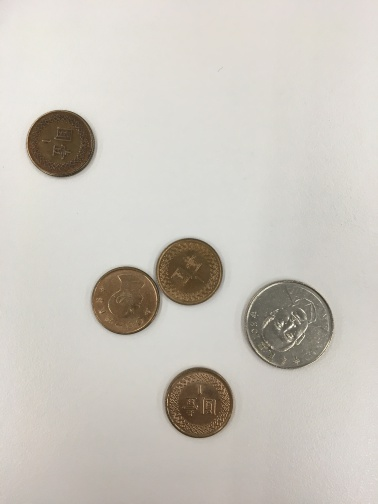1 dollar: (19, 106, 114, 196), (156, 358, 242, 447), (153, 230, 235, 315), (84, 260, 165, 342)
10 dollar: (240, 268, 344, 389)
